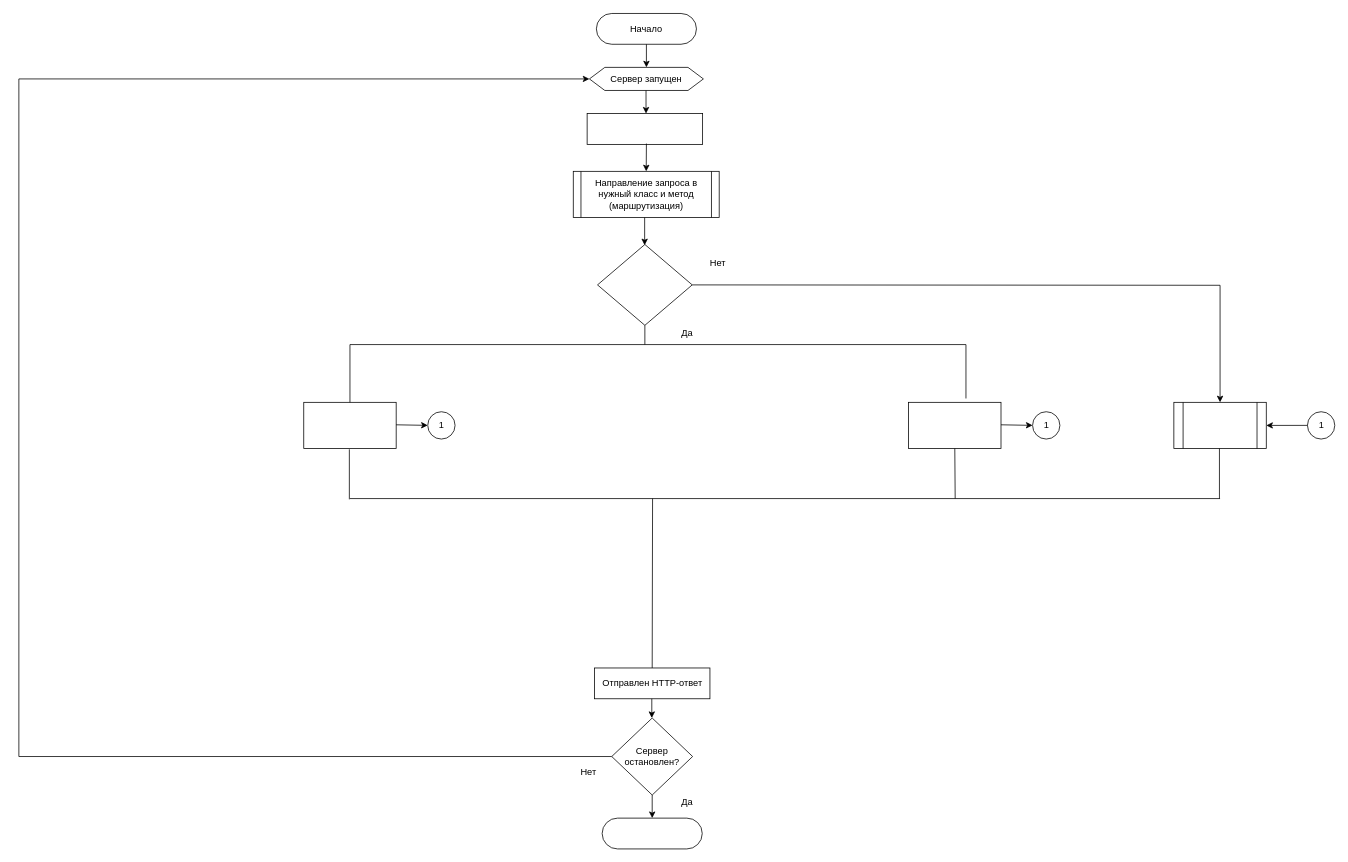
The diagram is 1348 pixels wide and 862 high, and some of its shapes have lost their labels. Each missing label, with the centre of its shape:
"Вход" belongs at [1219,425].
"Конец" belongs at [651,833].
"Получен HTTP-запрос" belongs at [644,128].
"Роль позволяет" belongs at [644,284].
